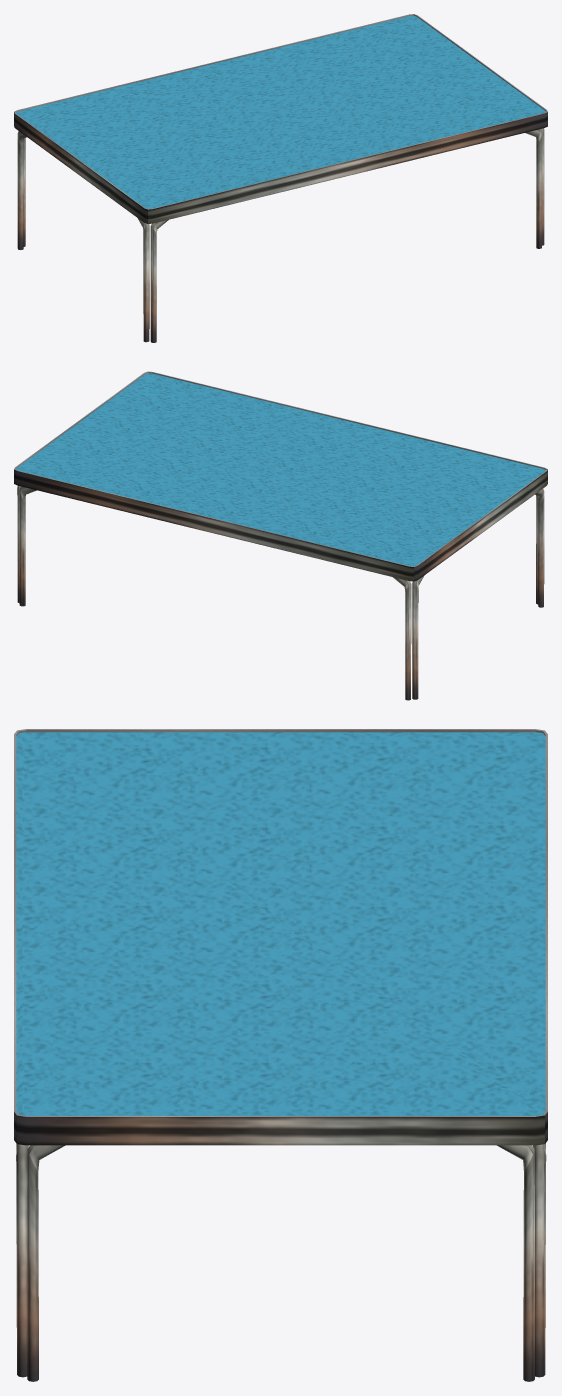
The model's file is Dining_Table_01_B.FBX.
3 renders of one model, top to bottom at view 1: azimuth 30°, elevation 25°; view 2: azimuth 150°, elevation 25°; view 3: azimuth 270°, elevation 25°, orthographic. The views are drawn at different scales.
Parts seen in each view (by area): view 1: Dining_Table; view 2: Dining_Table; view 3: Dining_Table.
Boxes of the visible parts, x1,y1,x2,y2 form: Dining_Table: [14, 14, 547, 342]; Dining_Table: [14, 371, 547, 700]; Dining_Table: [14, 729, 547, 1381].
Bounding box in the file's own units: 437 × 140 × 254.
